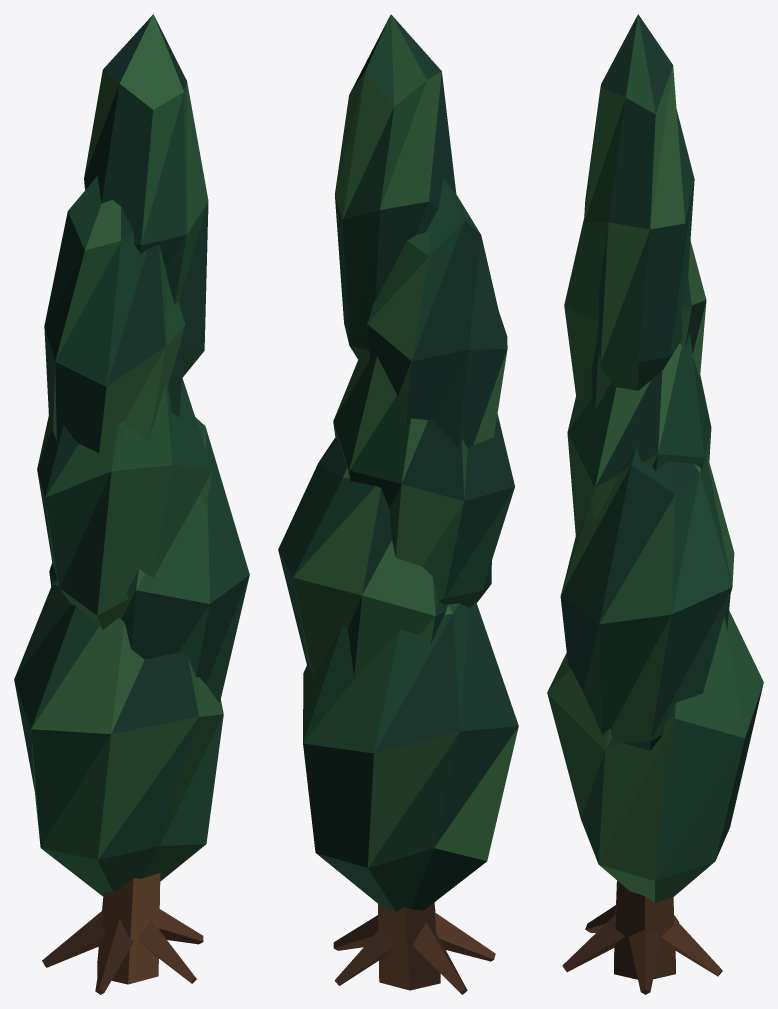
The model's file is tree_cypress_column.obj.
3 views of the same model, side by side, from view 1: azimuth 30°, elevation 25°; view 2: azimuth 150°, elevation 25°; view 3: azimuth 270°, elevation 25° (orthographic).
Visible parts, largest first — view 1: tree_cypress_column; view 2: tree_cypress_column; view 3: tree_cypress_column.
Boxes of the visible parts, x1=… form: tree_cypress_column: x1=14, y1=14, x2=249, y2=994; tree_cypress_column: x1=278, y1=14, x2=518, y2=994; tree_cypress_column: x1=547, y1=14, x2=763, y2=994.
Bounding box in the file's own units: 160 × 660 × 134.
Materials: 1 (1 with a texture image).
